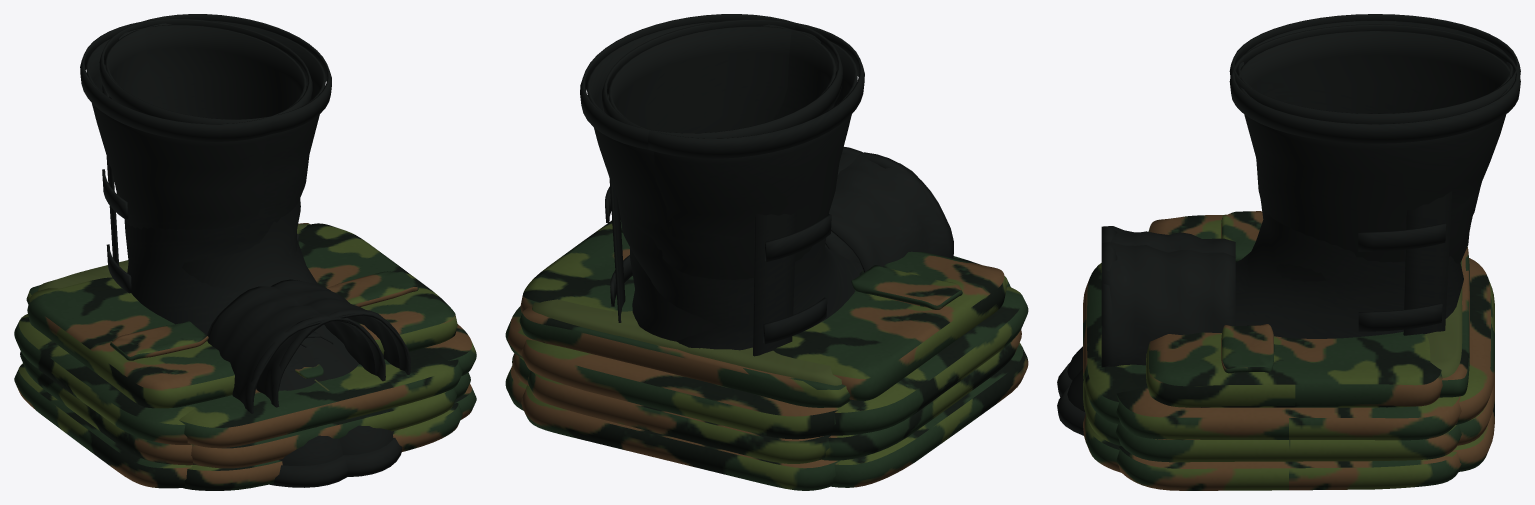
The model's file is ProtectiveClothing_Pickup.fbx.
3 renders of one model, left to right at view 1: azimuth 30°, elevation 25°; view 2: azimuth 150°, elevation 25°; view 3: azimuth 270°, elevation 25°, orthographic. The views are drawn at different scales.
Visible parts, largest first — view 1: Jacket_Pickup, Overboot_L_Pickup, Overboot_R_Pickup, Trousers_Pickup, Glove_L_Pickup, Glove_R_Pickup; view 2: Jacket_Pickup, Overboot_L_Pickup, Trousers_Pickup, Overboot_R_Pickup, Glove_L_Pickup, Glove_R_Pickup; view 3: Jacket_Pickup, Overboot_R_Pickup, Overboot_L_Pickup, Glove_R_Pickup, Trousers_Pickup, Glove_L_Pickup.
Part boxes in pixels (x1=…): Jacket_Pickup: x1=14, y1=223, x2=476, y2=488; Overboot_L_Pickup: x1=80, y1=18, x2=402, y2=476; Overboot_R_Pickup: x1=99, y1=14, x2=347, y2=487; Trousers_Pickup: x1=26, y1=223, x2=462, y2=490; Glove_L_Pickup: x1=207, y1=286, x2=385, y2=413; Glove_R_Pickup: x1=256, y1=279, x2=410, y2=407; Jacket_Pickup: x1=505, y1=220, x2=1028, y2=487; Overboot_L_Pickup: x1=602, y1=19, x2=864, y2=341; Trousers_Pickup: x1=519, y1=256, x2=1010, y2=490; Overboot_R_Pickup: x1=580, y1=14, x2=862, y2=356; Glove_L_Pickup: x1=825, y1=152, x2=953, y2=272; Glove_R_Pickup: x1=825, y1=147, x2=862, y2=263; Jacket_Pickup: x1=1115, y1=211, x2=1462, y2=490; Overboot_R_Pickup: x1=1057, y1=24, x2=1520, y2=397; Overboot_L_Pickup: x1=1057, y1=14, x2=1520, y2=435; Glove_R_Pickup: x1=1101, y1=242, x2=1235, y2=367; Trousers_Pickup: x1=1083, y1=247, x2=1494, y2=472; Glove_L_Pickup: x1=1101, y1=226, x2=1235, y2=256.
Size of the model in its own units: 0.34 by 0.287 by 0.36.
1 material, 1 textured.
